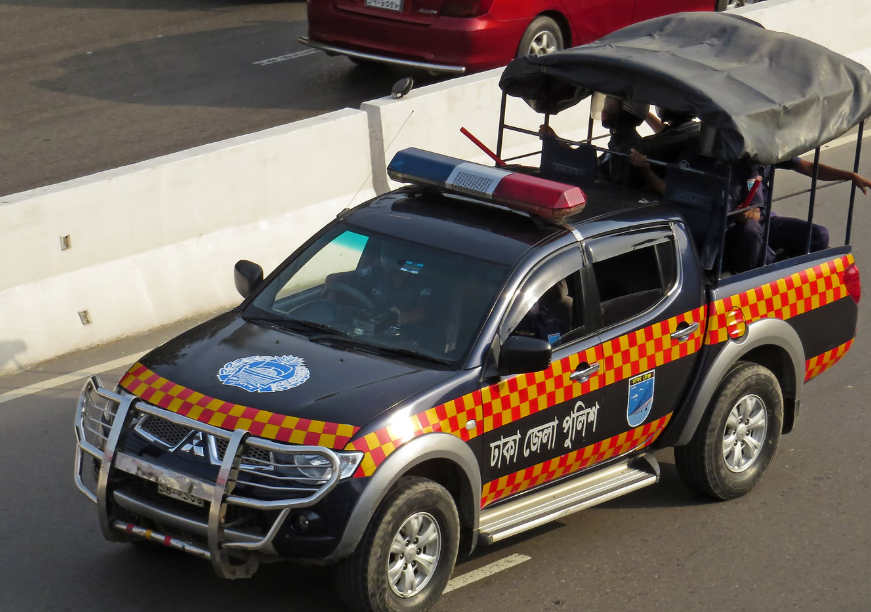Police cars: (62, 14, 871, 612)
